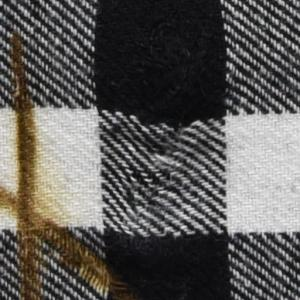Damage: (109, 94, 199, 227)
Oil Stain: (1, 185, 141, 300), (1, 29, 48, 300)
